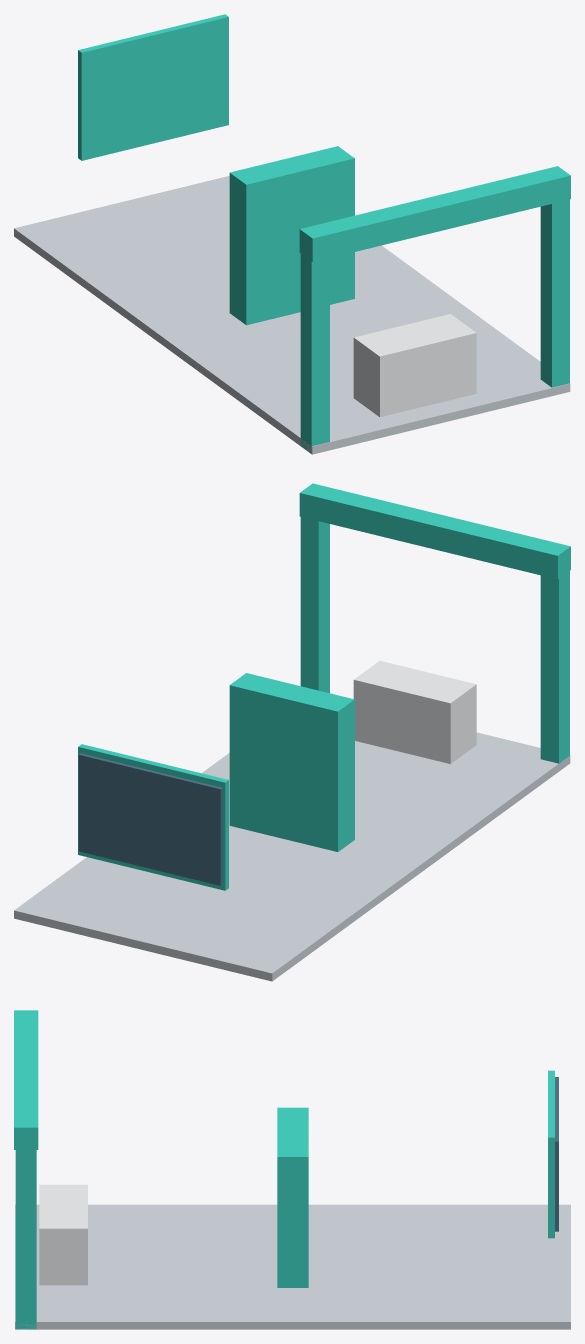
3 views of the same model, one above another, from view 1: azimuth 30°, elevation 25°; view 2: azimuth 150°, elevation 25°; view 3: azimuth 270°, elevation 25° (orthographic). The views are drawn at different scales.
Parts seen in each view (by area): view 1: Exhibition Booth Concept; view 2: Exhibition Booth Concept; view 3: Exhibition Booth Concept.
Boxes of the visible parts, bbox=[...] form: Exhibition Booth Concept: bbox=[14, 14, 570, 454]; Exhibition Booth Concept: bbox=[14, 483, 570, 981]; Exhibition Booth Concept: bbox=[14, 1010, 570, 1329].
Size of the model in its own units: 4 by 3.2 by 8.01.
